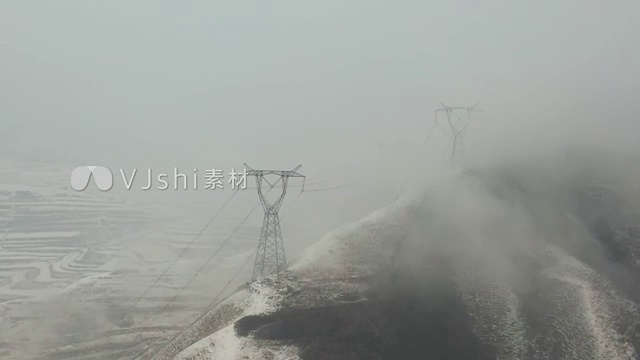tower_body: (240, 156, 316, 299)
tower_foot: (246, 255, 296, 297)
tower_head: (244, 161, 311, 214)
